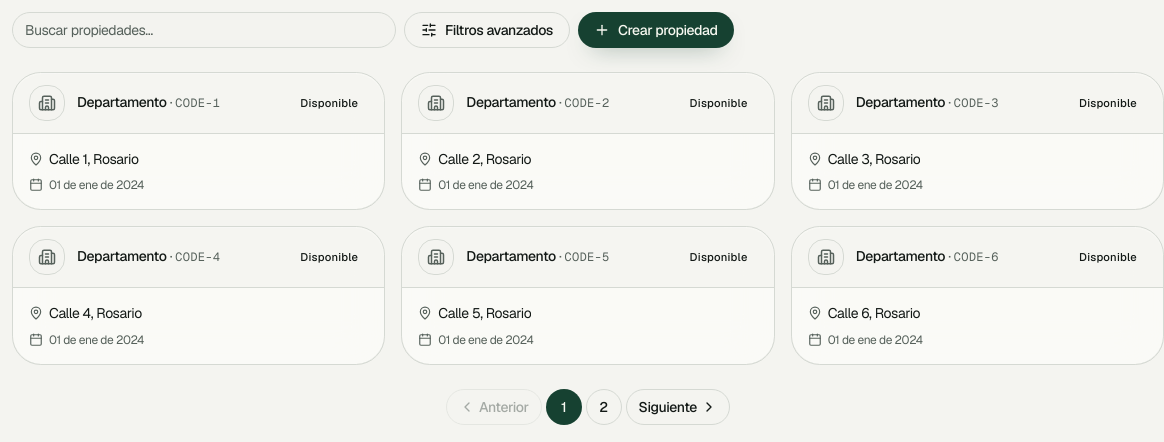
Test: PropertyList › pages the full dataset client-side: page 2 shows cards 7–12
Click the button with test id "pagination-page-2".
click(604, 406)  # box [586,388,622,424]
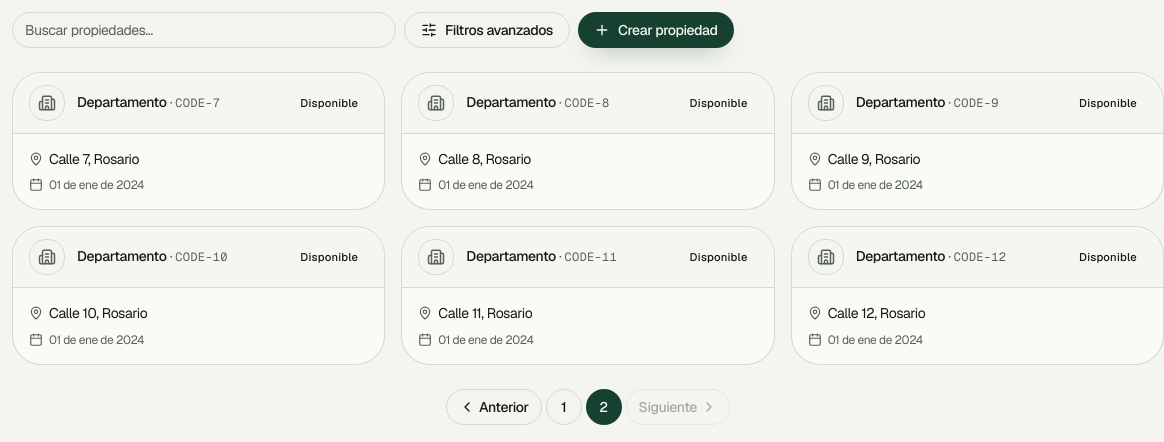
Expected: the text with test id "pagination-current" reads "2", [599,398,608,416]
